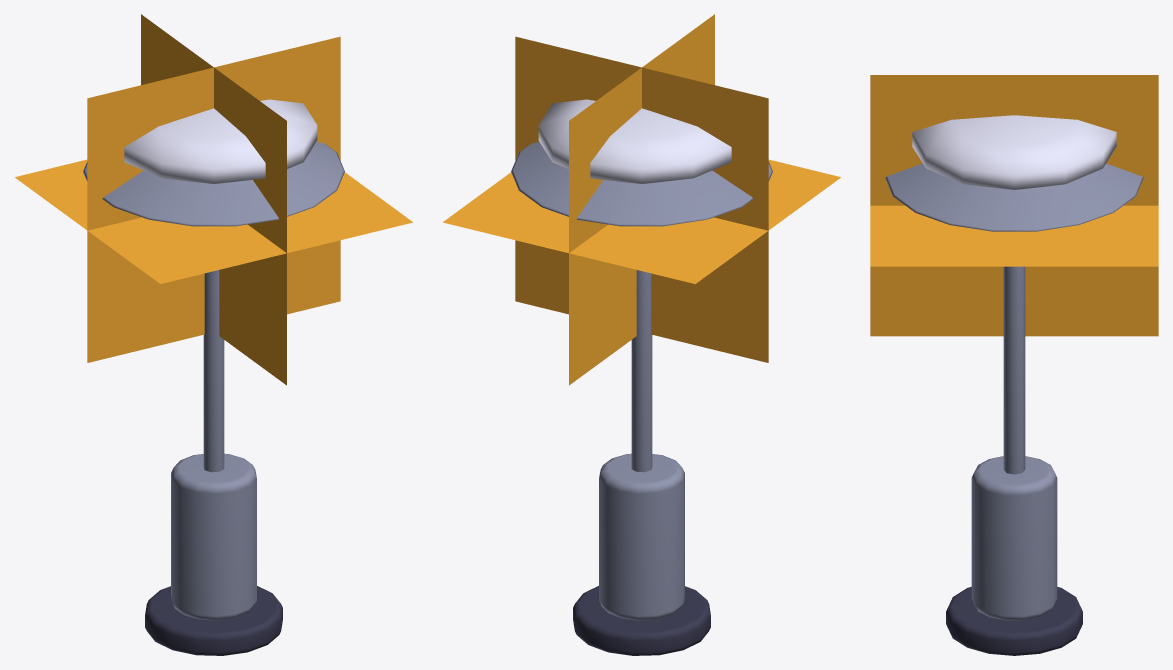
Rendered from frost_heater.glb.
3 renders of one model, left to right at view 1: azimuth 30°, elevation 25°; view 2: azimuth 150°, elevation 25°; view 3: azimuth 270°, elevation 25°, orthographic.
Parts seen in each view (by area): view 1: Heater; view 2: Heater; view 3: Heater.
Boxes of the visible parts, x1,y1,x2,y2 form: Heater: (15,14,412,655); Heater: (443,14,840,655); Heater: (870,75,1158,655).
Size of the model in its own units: 1.34 by 2.85 by 1.34.
